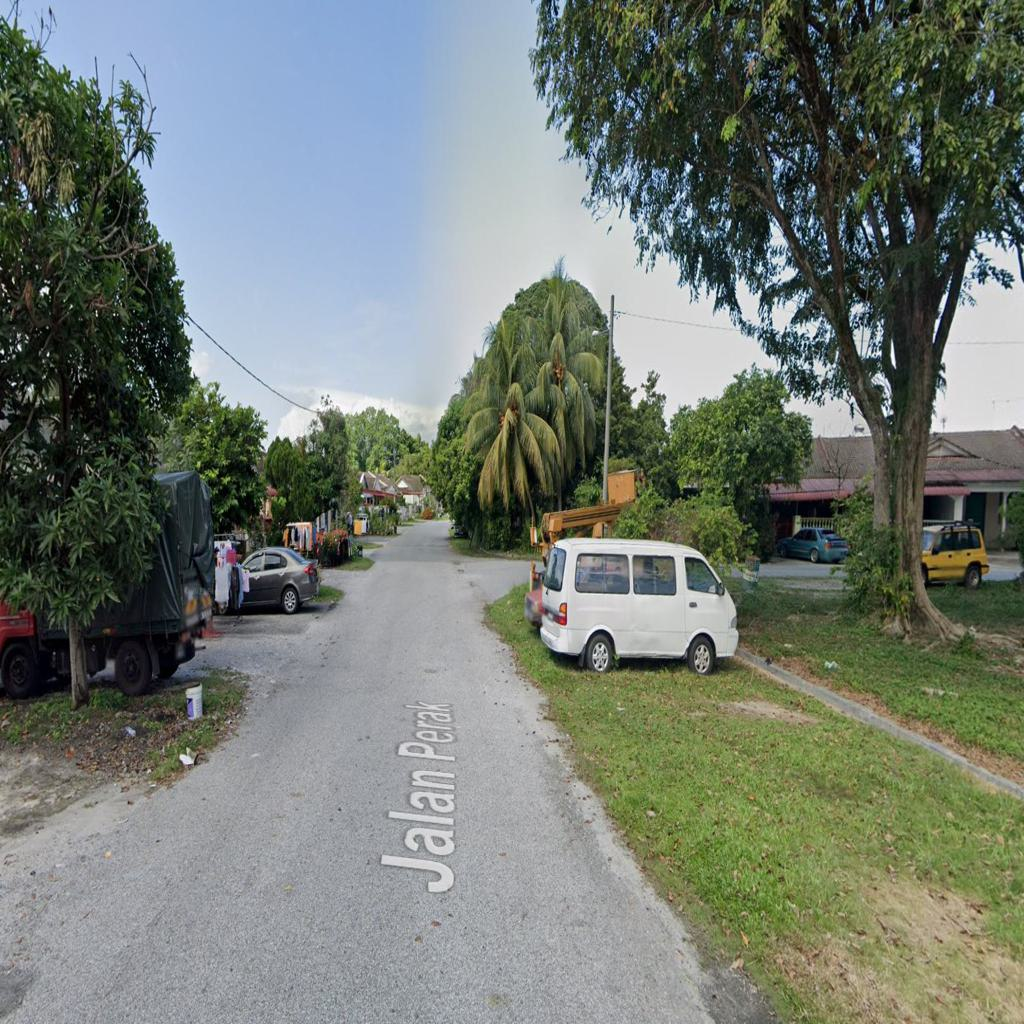Junction: (428, 523, 525, 621)
